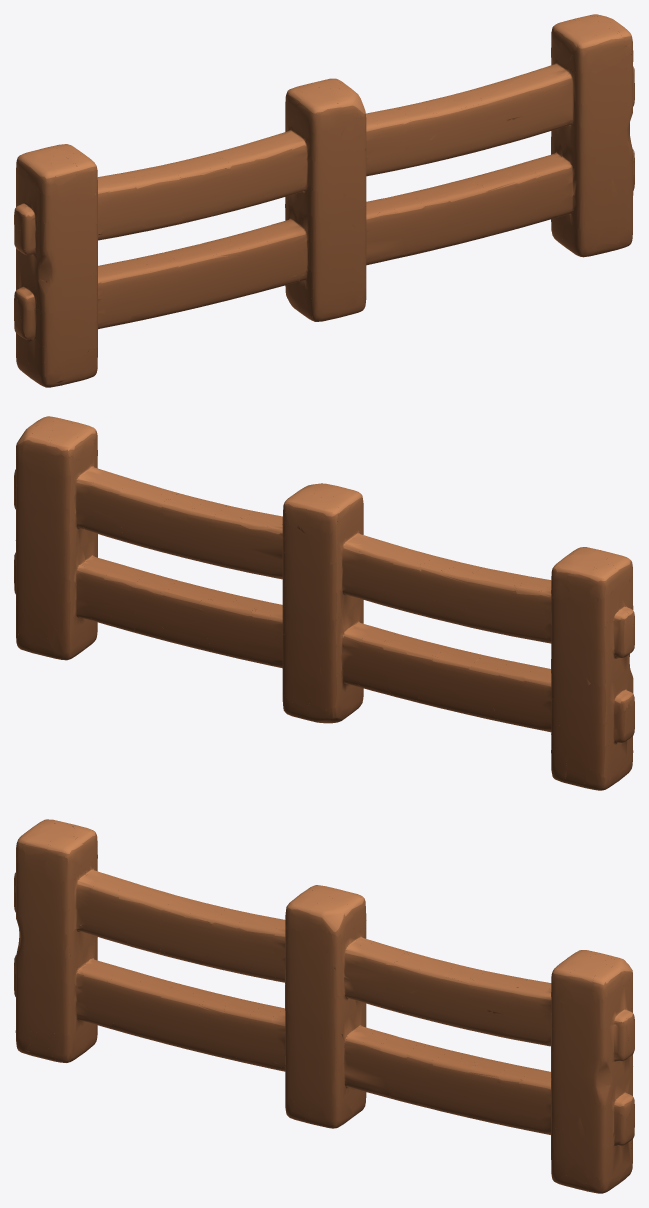
Rendered from Fence.fbx.
3 renders of one model, top to bottom at view 1: azimuth 30°, elevation 25°; view 2: azimuth 150°, elevation 25°; view 3: azimuth 330°, elevation 25°, orthographic.
Parts seen in each view (by area): view 1: Fence; view 2: Fence; view 3: Fence.
Part boxes in pixels (x1,y1,x2,y2): Fence: [14, 14, 634, 387]; Fence: [14, 416, 634, 790]; Fence: [14, 819, 634, 1193].
Size of the model in its own units: 3.4 by 1.16 by 0.3145.
